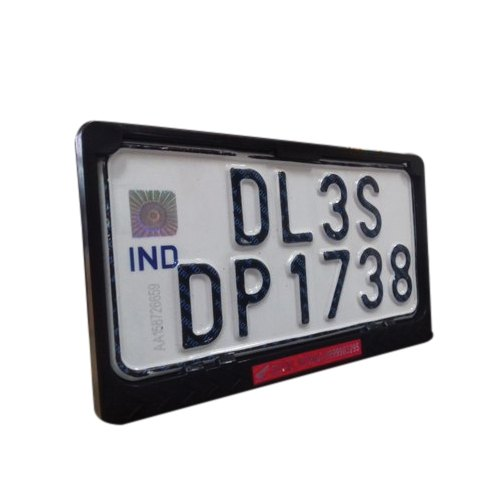doublelinenumberplate: (80, 119, 433, 425)
